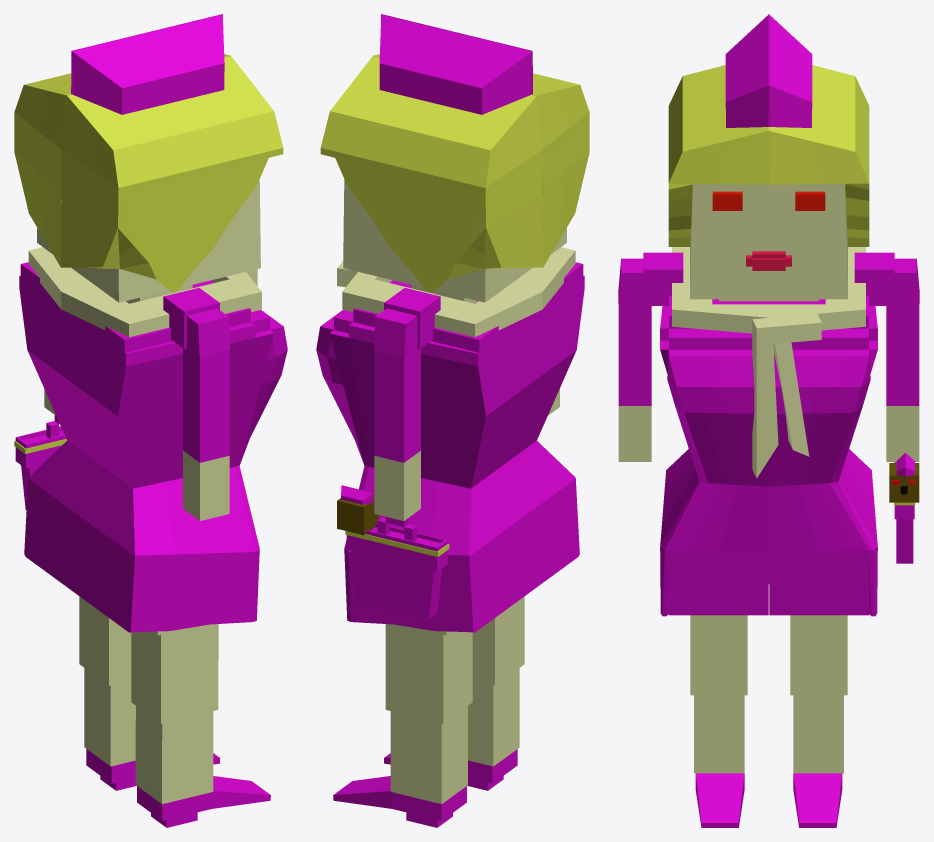
Rendered from Blonda.fbx.
3 views of the same model, side by side, from view 1: azimuth 30°, elevation 25°; view 2: azimuth 150°, elevation 25°; view 3: azimuth 270°, elevation 25° (orthographic). The views are drawn at different scales.
Parts seen in each view (by area): view 1: Character, head.001, head.002, Cube.010, Cube.001, Cube.007, head, Cube.005, Cube.004, Cube.000, Cube, Cube.009 (+2 smaller); view 2: Character, head.001, head.002, Cube.003, Cube, Cube.004, Cube.005, head, Cube.007, Cube.001, Cube.006, Cube.002 (+3 smaller); view 3: Character, head.001, head, head.002, Cube.010, Cube.003, Cube.004, Cube.001, Cube.005, Cube.007, Cube.006, Cube.000 (+6 smaller).
Boxes of the visible parts, box(x1,y1,x2,y2) form: Character: box(19, 247, 287, 632); head.001: box(14, 54, 283, 291); head.002: box(71, 14, 224, 114); Cube.010: box(183, 348, 229, 520); Cube.001: box(131, 624, 218, 723); Cube.007: box(135, 706, 213, 804); head: box(37, 180, 260, 302); Cube.005: box(84, 668, 135, 766); Cube.004: box(79, 596, 131, 685); Cube.000: box(137, 776, 270, 827); Cube: box(14, 415, 66, 510); Cube.009: box(186, 308, 230, 357); Character: box(316, 247, 584, 632); head.001: box(320, 54, 589, 291); head.002: box(379, 14, 532, 114); Cube.003: box(374, 348, 420, 520); Cube: box(345, 517, 449, 619); Cube.004: box(385, 624, 472, 723); Cube.005: box(390, 706, 467, 804); head: box(343, 179, 566, 302); Cube.007: box(468, 668, 519, 766); Cube.001: box(472, 596, 524, 685); Cube.006: box(333, 776, 466, 827); Cube.002: box(373, 308, 417, 357); Character: box(660, 247, 877, 616); head.001: box(668, 65, 869, 246); head: box(690, 184, 847, 299); head.002: box(725, 14, 812, 127); Cube.010: box(618, 304, 651, 461); Cube.003: box(886, 304, 919, 461); Cube.004: box(790, 615, 847, 695); Cube.001: box(690, 615, 747, 695); Cube.005: box(793, 695, 843, 773); Cube.007: box(694, 695, 744, 773); Cube.006: box(793, 773, 842, 827); Cube.000: box(695, 773, 744, 827).
Bounding box in the file's own units: 212 × 816 × 301.
